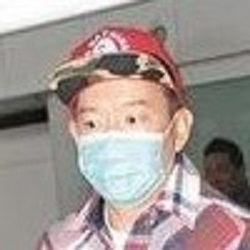mask: (66, 126, 171, 204)
